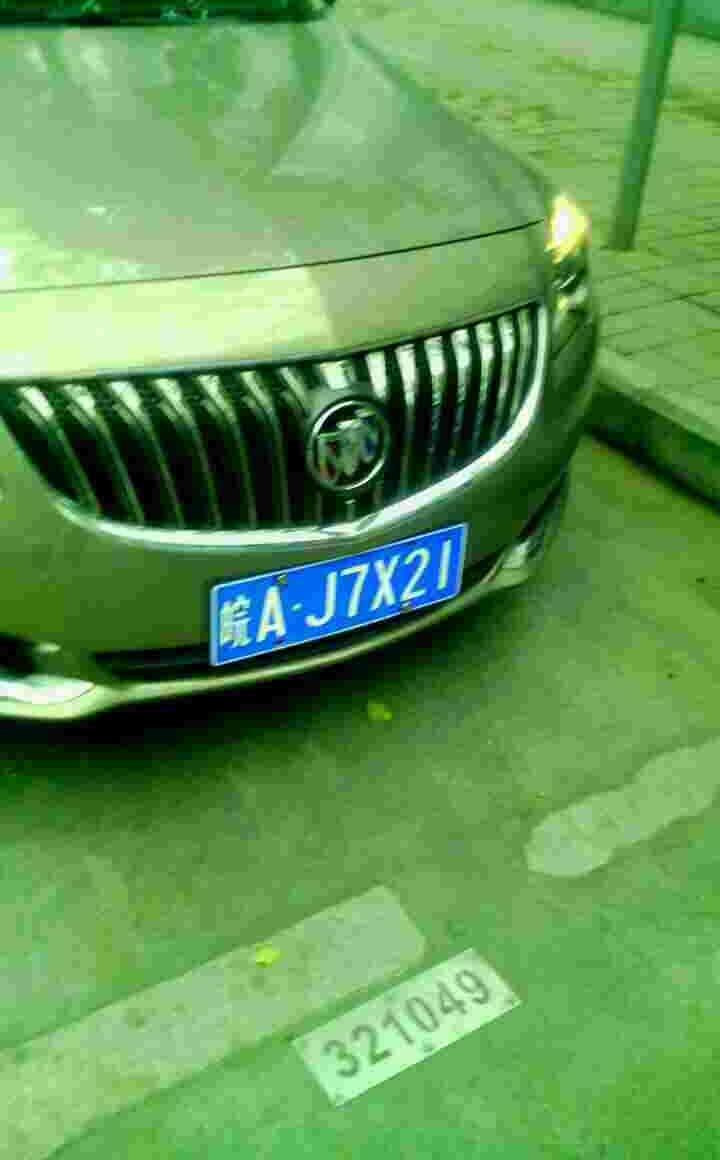license_plate: (211, 518, 478, 662)
